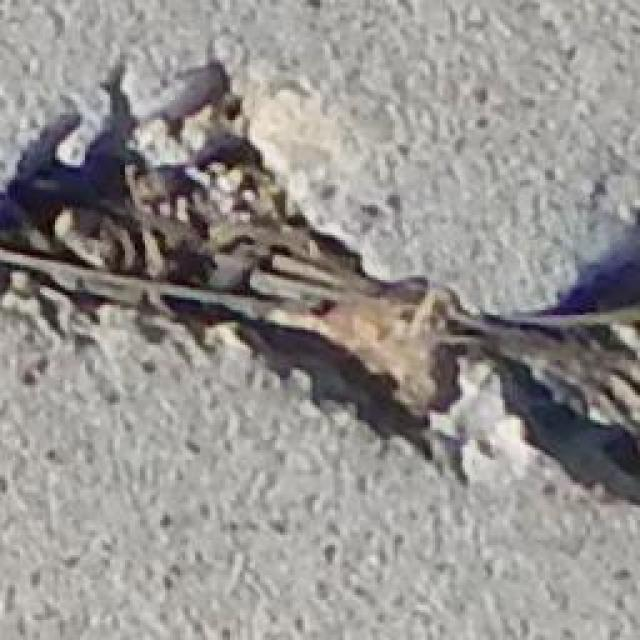concrete-crack: (0, 52, 640, 518)
